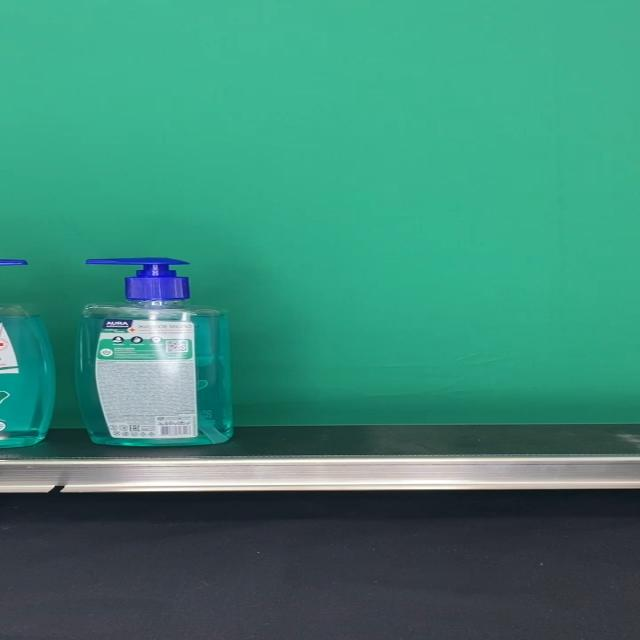Bottle: (77, 257, 233, 446)
Cap: (87, 258, 191, 300)
